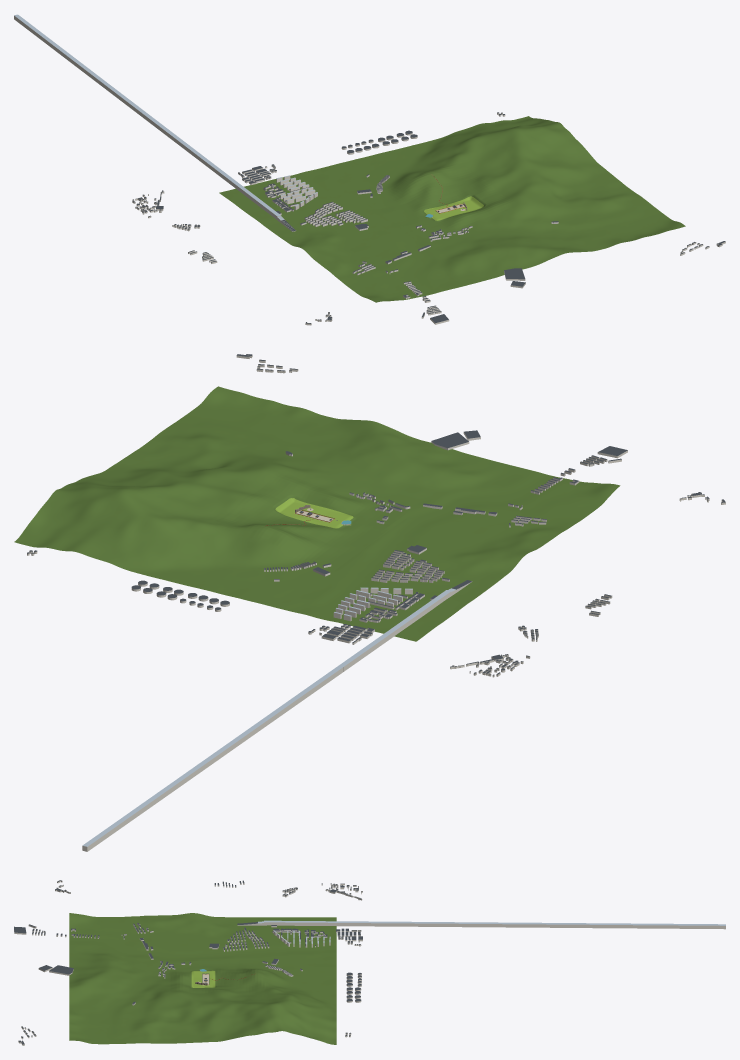
File: static.glb
3 renders of one model, top to bottom at view 1: azimuth 30°, elevation 25°; view 2: azimuth 150°, elevation 25°; view 3: azimuth 270°, elevation 25°, orthographic. The views are drawn at different scales.
Visible parts, largest first — view 1: Ground, City; view 2: Ground, City; view 3: Ground, City.
Part boxes in pixels (left/top/right/bottom): Ground: left=219, top=116, right=685, bottom=302; City: left=14, top=14, right=725, bottom=325; Ground: left=14, top=386, right=620, bottom=641; City: left=27, top=354, right=725, bottom=851; Ground: left=69, top=913, right=336, bottom=1044; City: left=14, top=880, right=725, bottom=1045.
Size of the model in its own units: 3918 by 238 by 6969.
